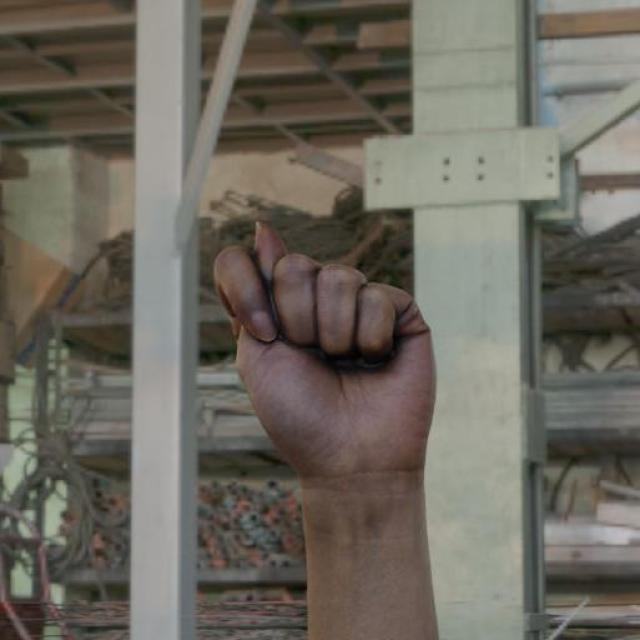T: (209, 216, 440, 480)
